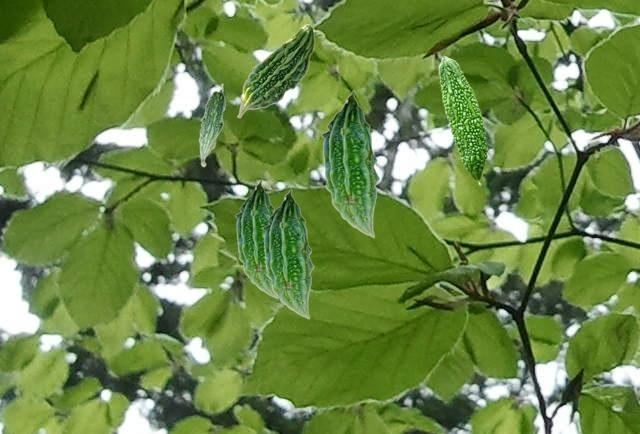ampalaya: (320, 89, 380, 238), (236, 24, 315, 118), (261, 188, 314, 319), (438, 55, 489, 187), (234, 179, 278, 299), (198, 83, 225, 167)
